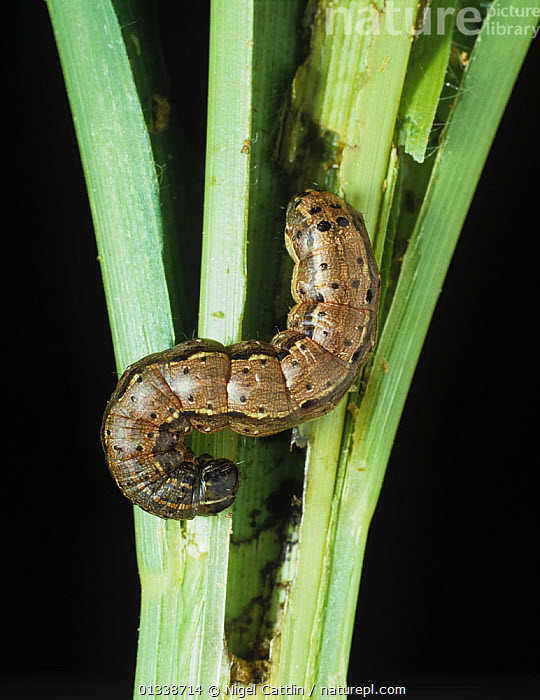Armyworm: (69, 159, 414, 545)
